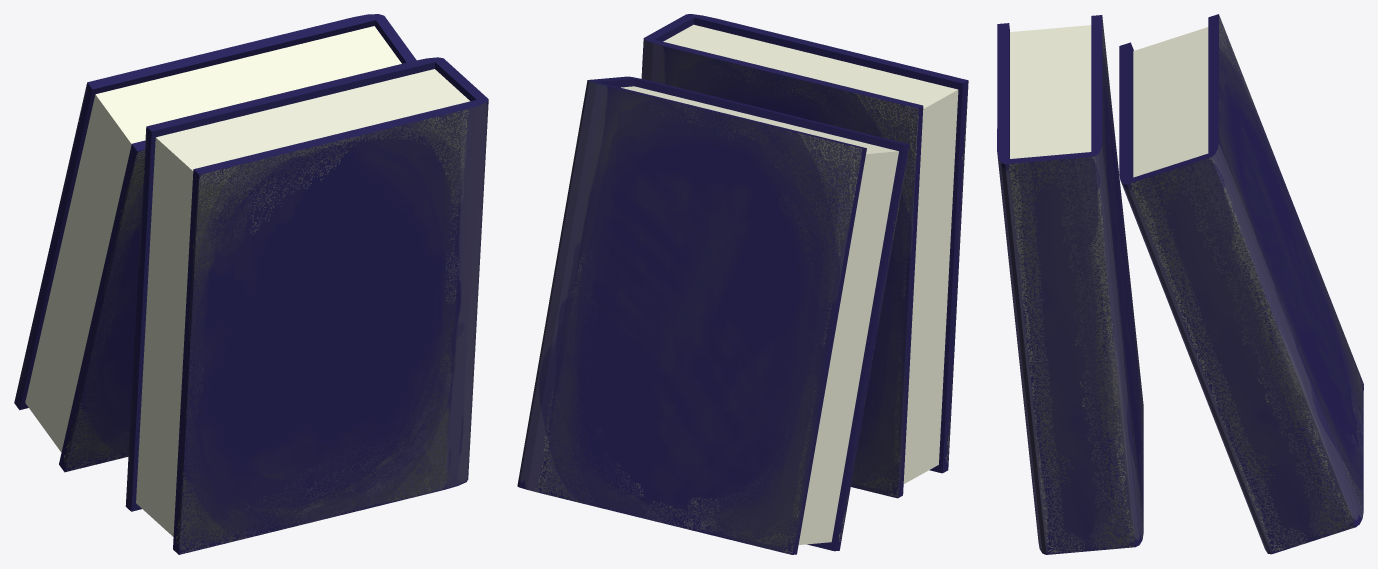
The model's file is Stack-6.fbx.
The picture shows the model from 3 angles, left to right: view 1: azimuth 30°, elevation 25°; view 2: azimuth 150°, elevation 25°; view 3: azimuth 270°, elevation 25°; orthographic projection. The views are drawn at different scales.
Parts seen in each view (by area): view 1: Cube.024; view 2: Cube.024; view 3: Cube.024.
Boxes of the visible parts, bbox=[...] form: Cube.024: bbox=[14, 14, 488, 554]; Cube.024: bbox=[517, 14, 968, 554]; Cube.024: bbox=[997, 14, 1363, 554].
Bounding box in the file's own units: 12.86 × 17.04 × 14.09.
Materials: 4 (2 with a texture image).
